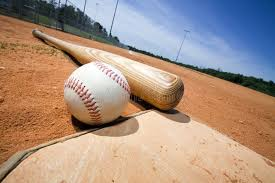baseball bat: (32, 27, 185, 112)
